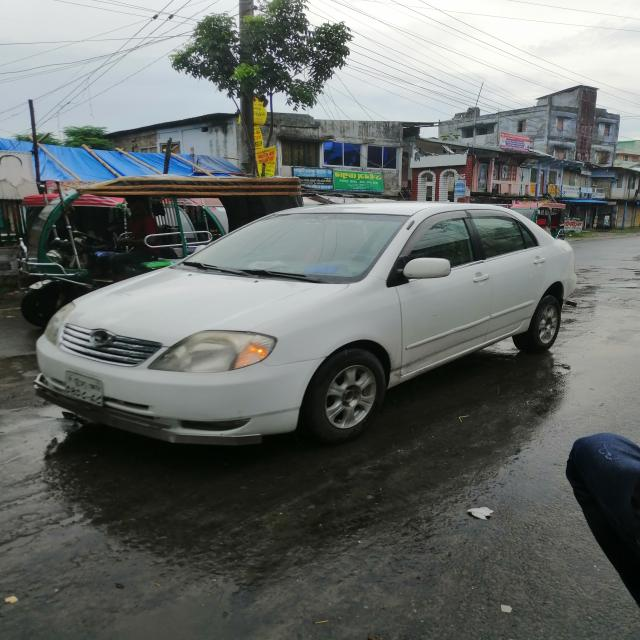Car: (28, 196, 579, 452)
